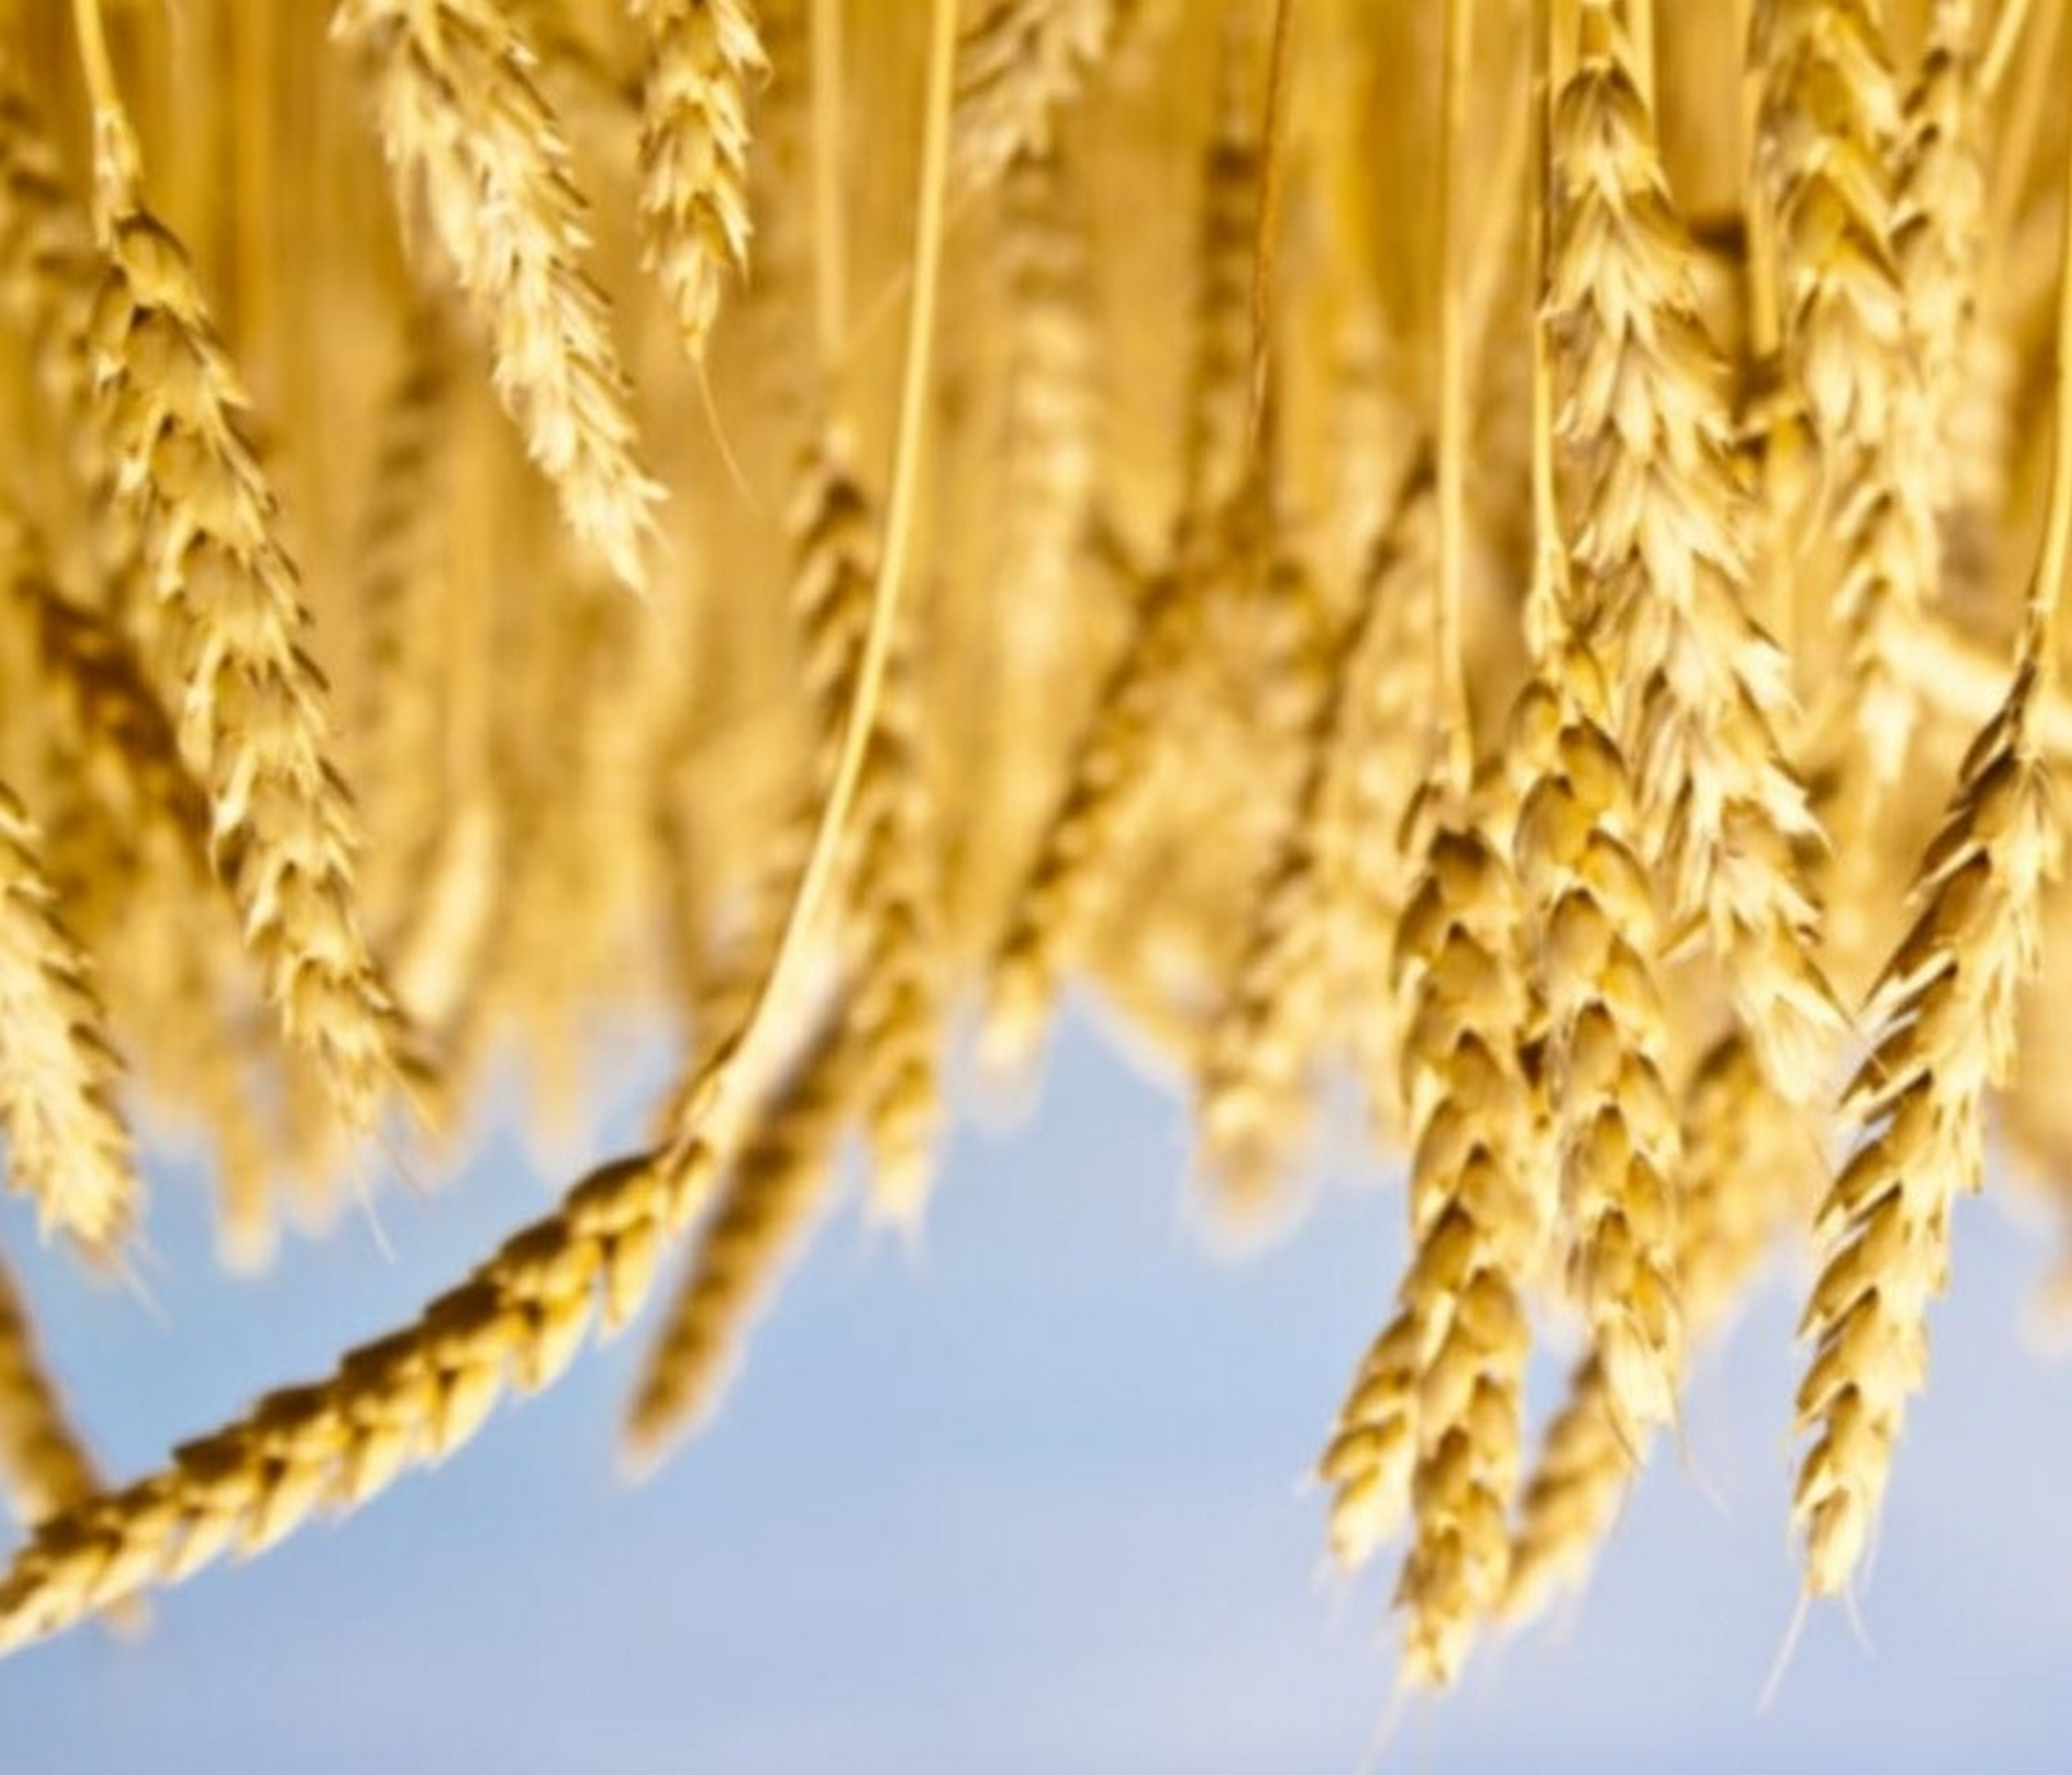Healthy Wheat: (1259, 585, 2072, 1617)
